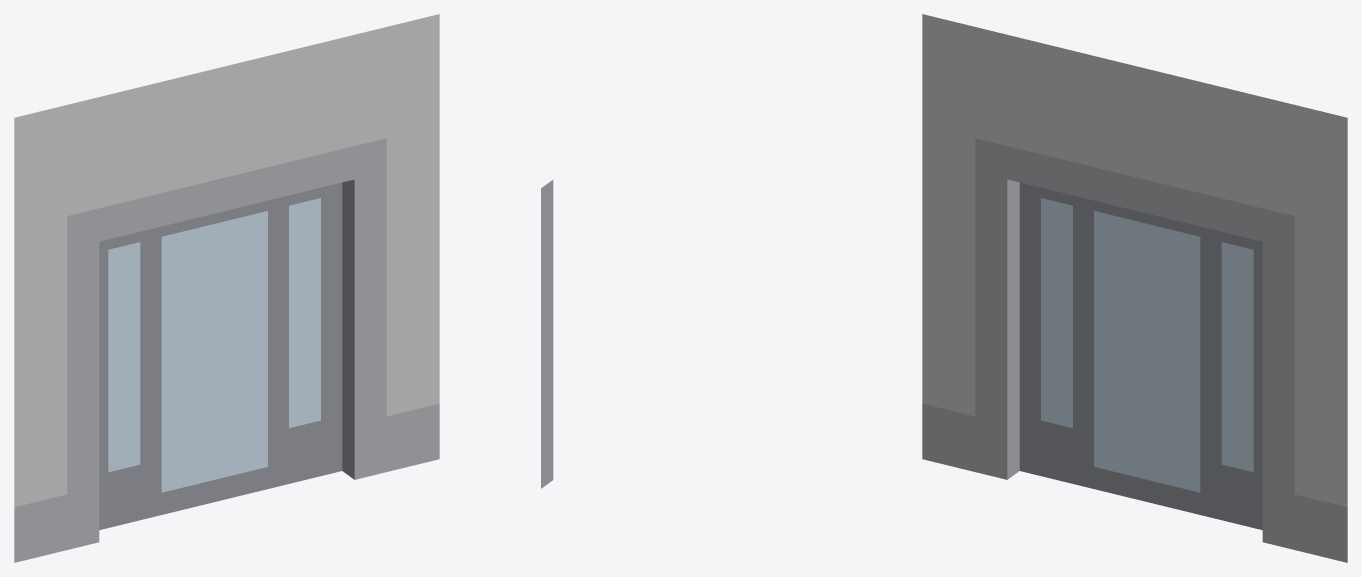
Rendered from wall_doorB.glb.
3 views of the same model, side by side, from view 1: azimuth 30°, elevation 25°; view 2: azimuth 150°, elevation 25°; view 3: azimuth 330°, elevation 25° (orthographic).
Visible parts, largest first — view 1: wall_doorB; view 2: wall_doorB; view 3: wall_doorB.
Boxes of the visible parts, x1,y1,x2,y2 form: wall_doorB: (14, 14, 439, 562); wall_doorB: (541, 180, 553, 488); wall_doorB: (922, 14, 1347, 562).
Size of the model in its own units: 0.4 by 0.4 by 0.02.
